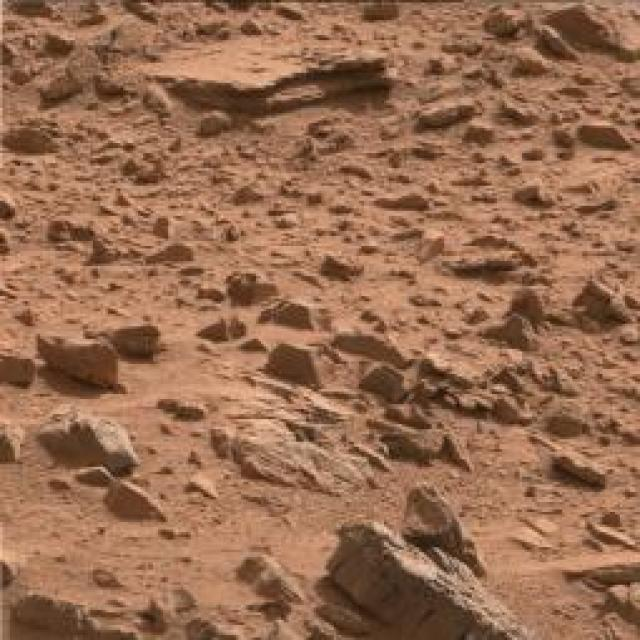rock: (324, 519, 526, 640), (140, 41, 412, 118), (226, 401, 384, 496), (393, 481, 488, 575), (14, 579, 140, 640), (39, 409, 135, 480), (542, 0, 640, 65), (28, 331, 130, 382), (232, 551, 308, 609), (35, 56, 110, 105), (104, 480, 179, 528), (576, 279, 640, 330), (563, 549, 640, 588), (88, 320, 162, 360), (0, 119, 66, 162), (480, 311, 547, 352), (262, 344, 322, 388), (536, 395, 602, 434), (328, 328, 408, 360), (550, 446, 614, 486), (362, 358, 418, 402), (140, 592, 188, 636), (502, 286, 559, 323), (262, 298, 326, 330), (407, 94, 480, 120), (154, 392, 216, 422), (389, 428, 441, 463), (607, 582, 640, 636), (223, 272, 284, 301), (480, 3, 532, 37), (575, 122, 627, 152), (510, 178, 562, 208), (196, 316, 252, 342), (145, 243, 200, 269), (374, 190, 436, 213), (316, 251, 362, 280), (0, 344, 33, 384), (441, 426, 470, 468), (86, 236, 122, 264), (192, 285, 236, 307), (458, 120, 498, 144), (0, 422, 25, 459), (48, 218, 80, 245), (0, 188, 18, 221)
